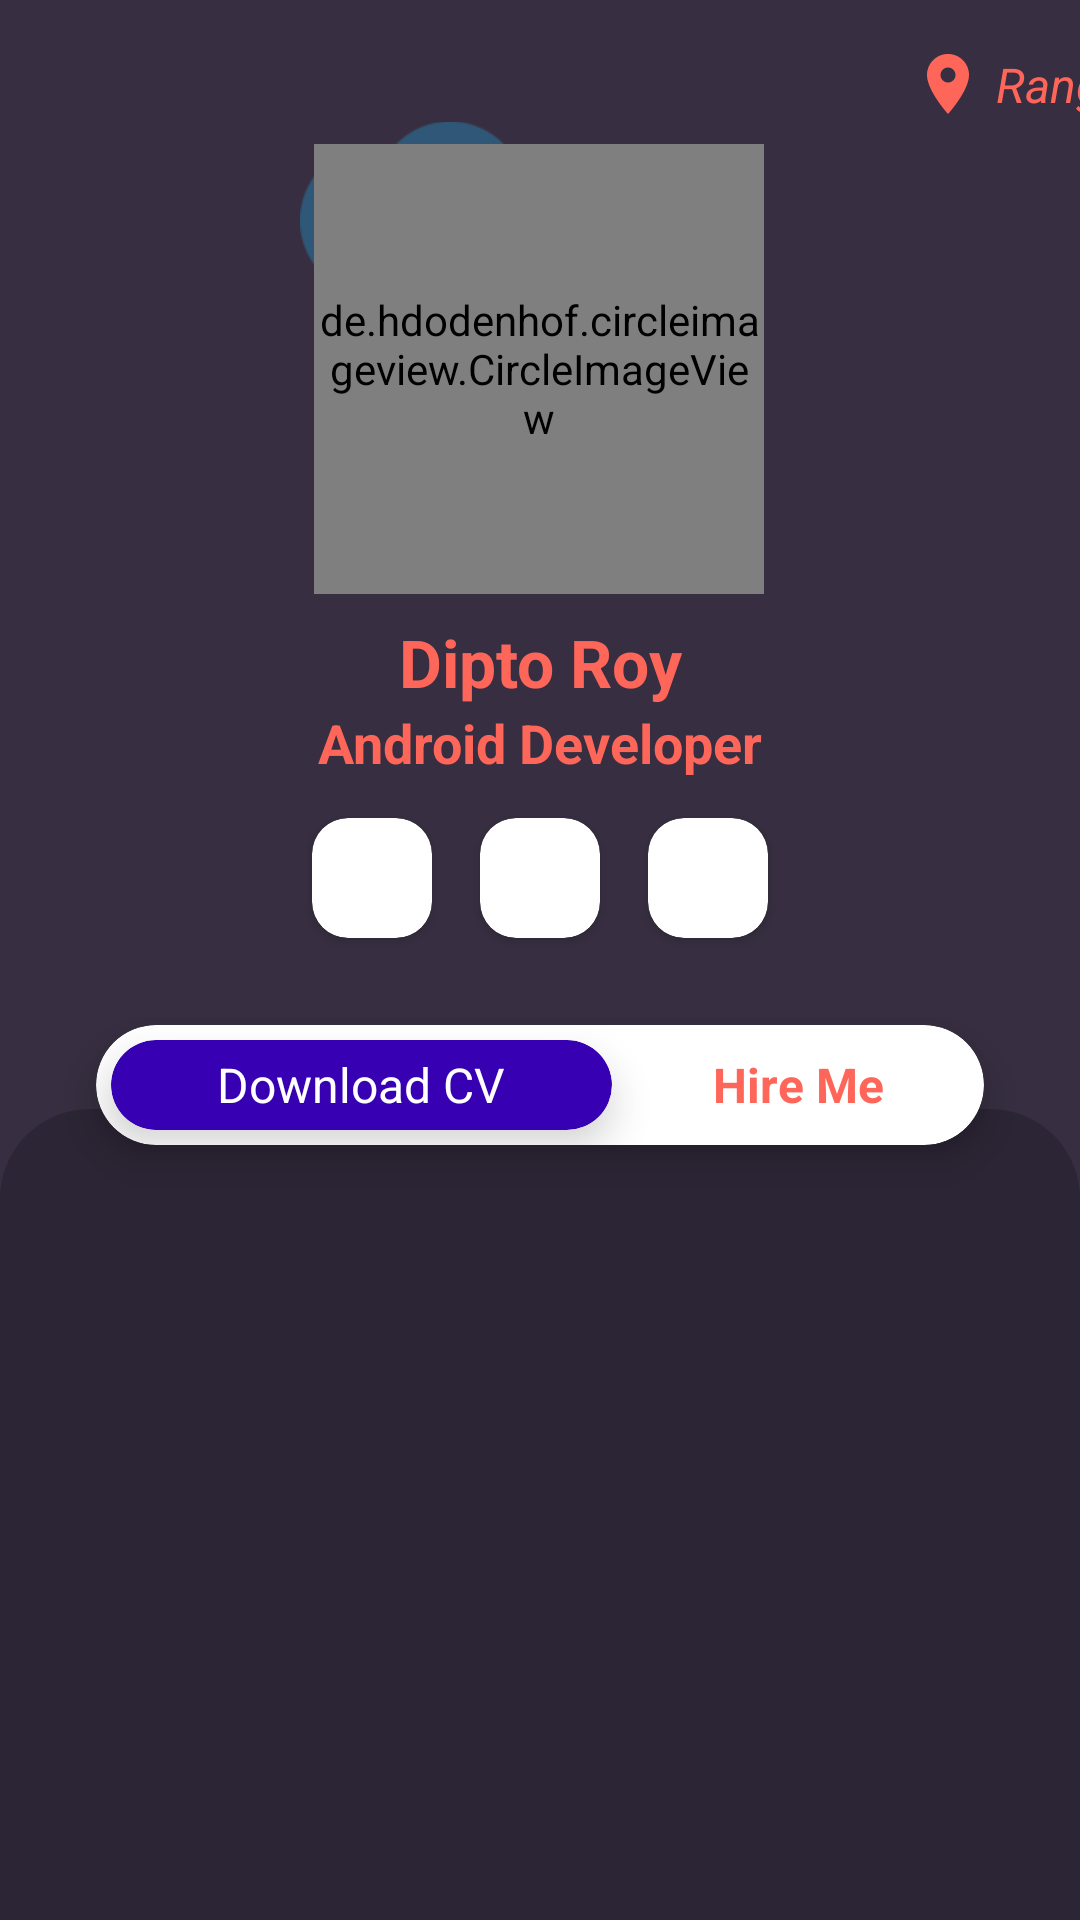

Where to tap for icons on this 1080px×1920px app screen, as point (x, y):
location on: point (948, 84)
